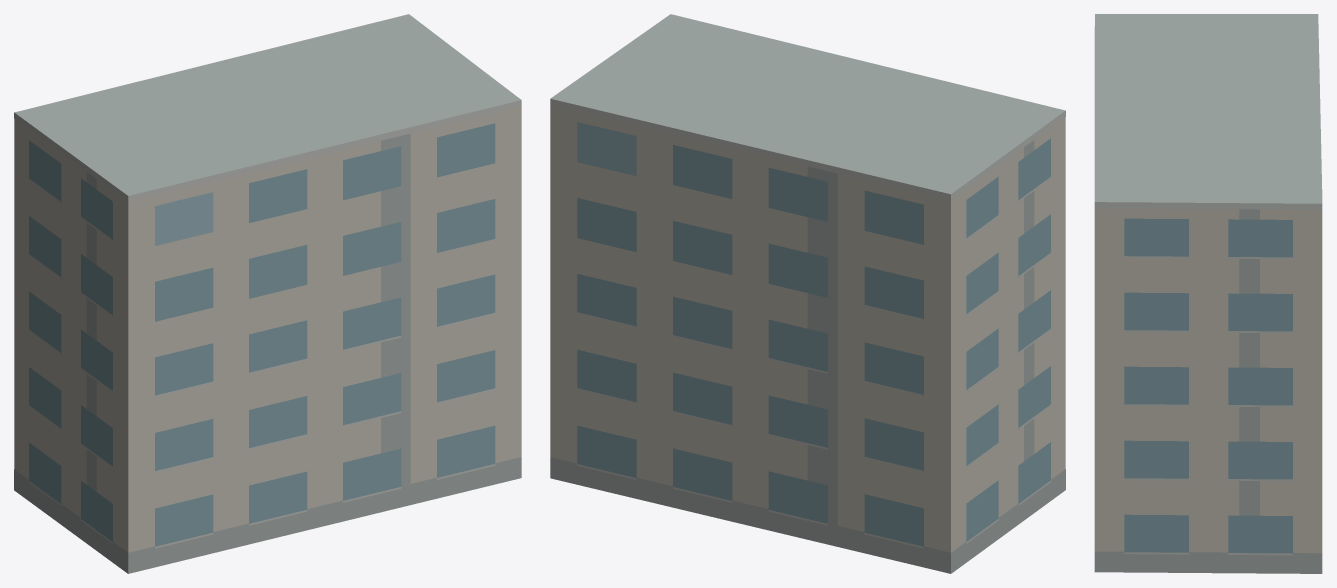
File: survey-upis-32921958.glb
3 renders of one model, left to right at view 1: azimuth 30°, elevation 25°; view 2: azimuth 150°, elevation 25°; view 3: azimuth 270°, elevation 25°, orthographic. The views are drawn at different scales.
Parts seen in each view (by area): view 1: survey-upis-32921958.tmp; view 2: survey-upis-32921958.tmp; view 3: survey-upis-32921958.tmp.
Part boxes in pixels (<box>): survey-upis-32921958.tmp: <box>14,14,521,573</box>; survey-upis-32921958.tmp: <box>550,14,1065,573</box>; survey-upis-32921958.tmp: <box>1094,14,1322,573</box>.
Size of the model in its own units: 15.96 by 14.5 by 8.11.
